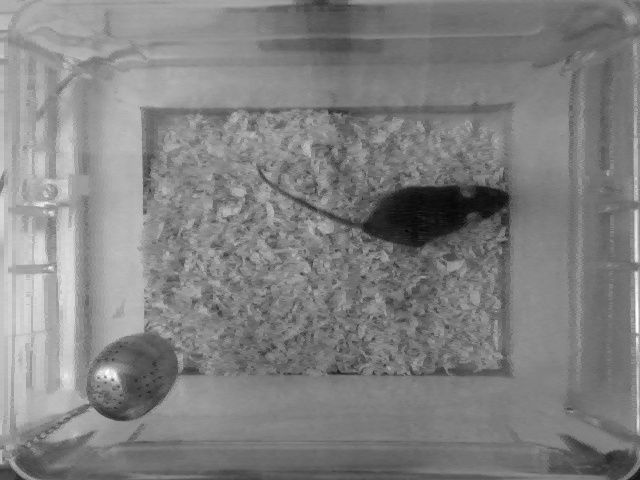mice: (252, 160, 512, 247)
